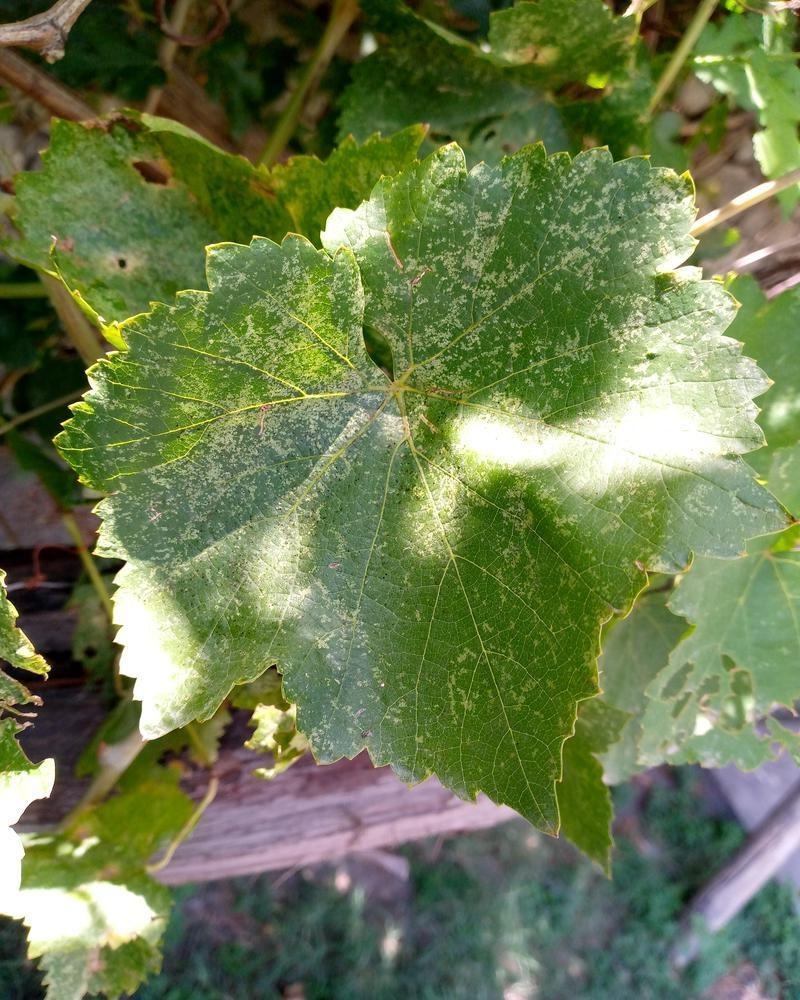Powdery-Mildew: (155, 296, 406, 529), (412, 204, 529, 369), (300, 605, 423, 751), (436, 613, 542, 734), (485, 467, 591, 561), (564, 216, 627, 279), (277, 261, 340, 324)
